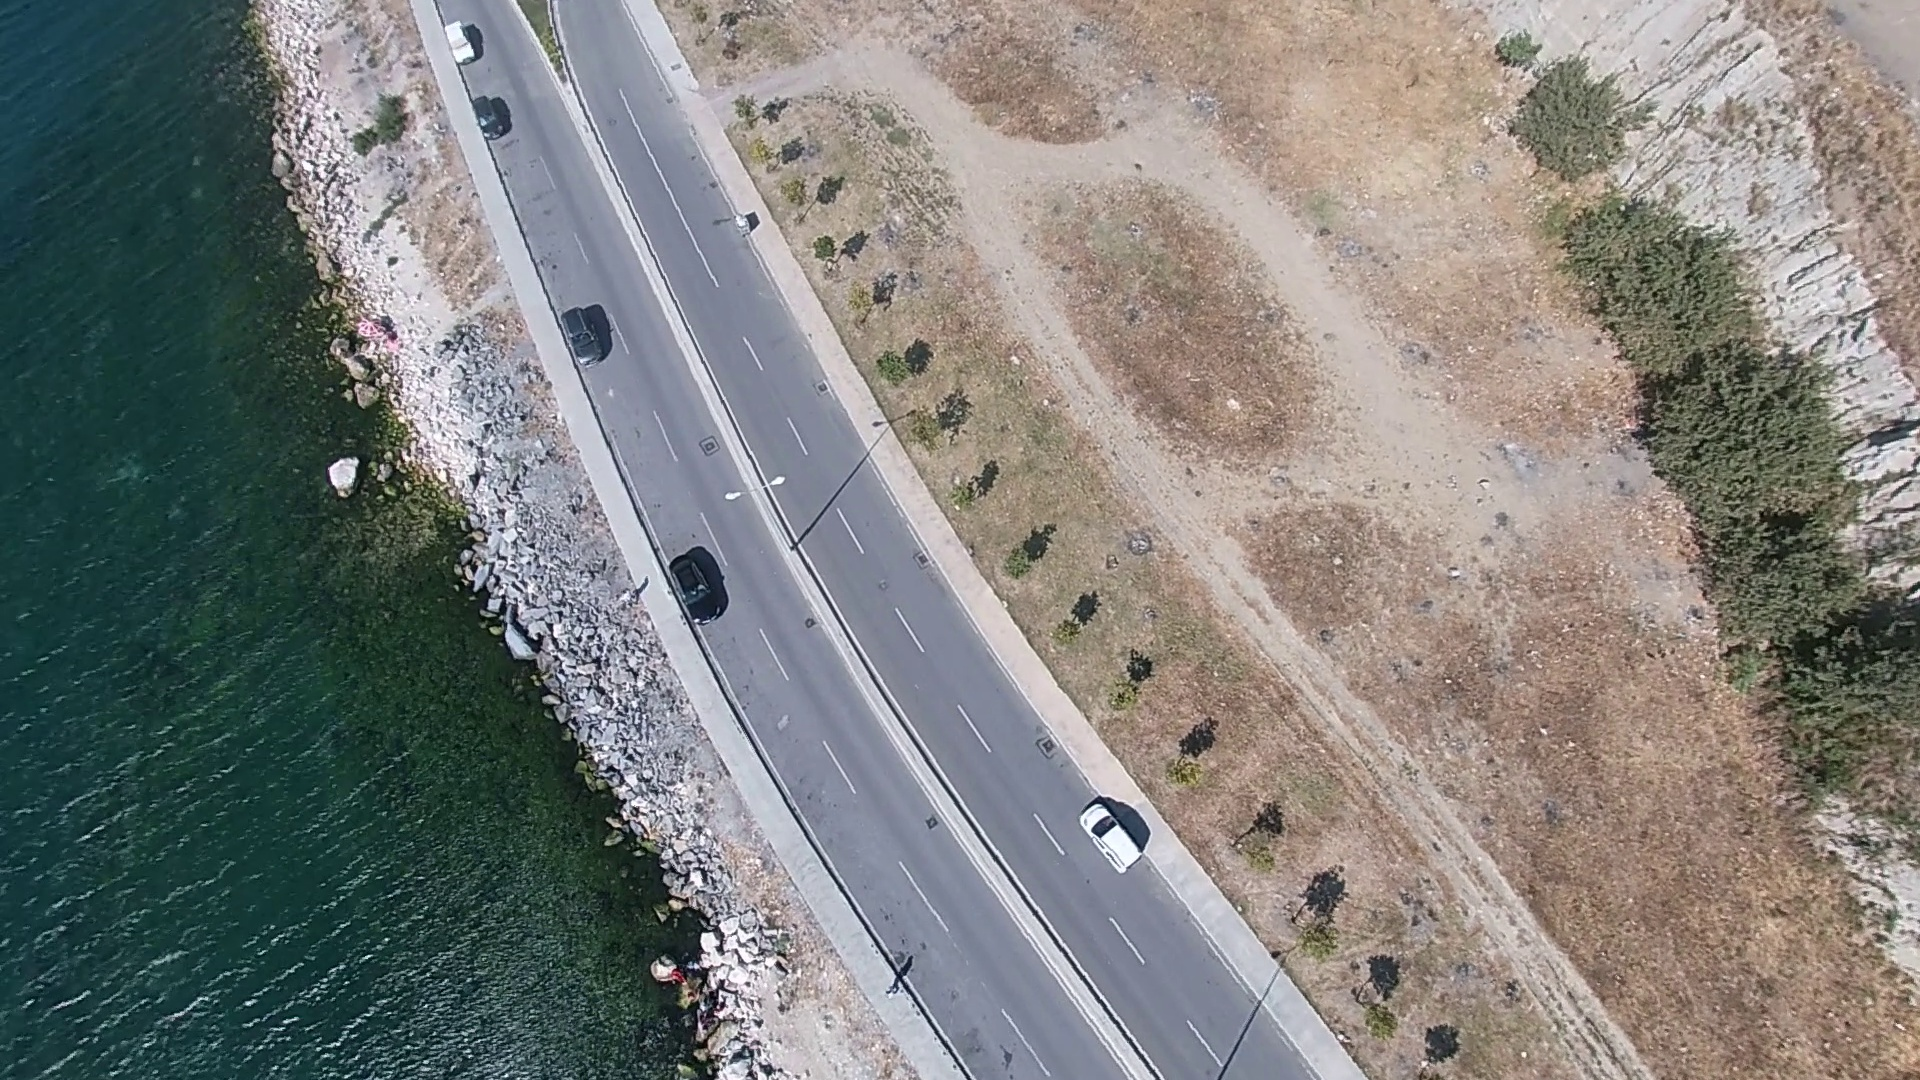arac: (657, 540, 728, 618), (1074, 799, 1144, 872), (440, 17, 478, 65)
insan: (1422, 1021, 1462, 1064), (1014, 521, 1052, 564)
